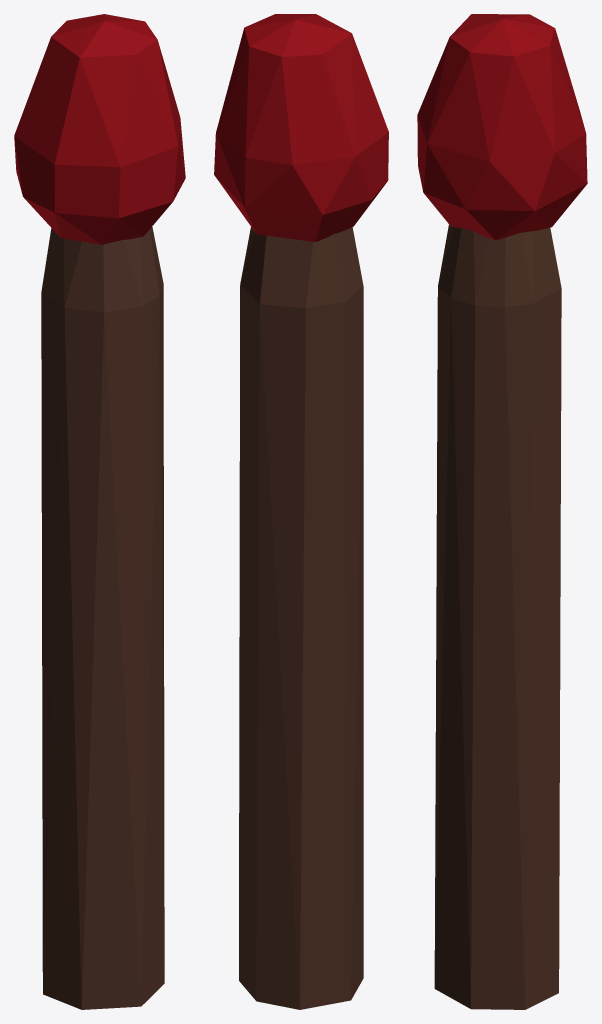
The model's file is torch.fbx.
3 views of the same model, side by side, from view 1: azimuth 30°, elevation 25°; view 2: azimuth 150°, elevation 25°; view 3: azimuth 270°, elevation 25° (orthographic).
Parts seen in each view (by area): view 1: Cylinder; view 2: Cylinder; view 3: Cylinder.
Part boxes in pixels (x1,y1,x2,y2): Cylinder: [14, 14, 185, 1009]; Cylinder: [214, 14, 388, 1009]; Cylinder: [417, 14, 587, 1009].
Bounding box in the file's own units: 0.3344 × 2.08 × 0.3308.
